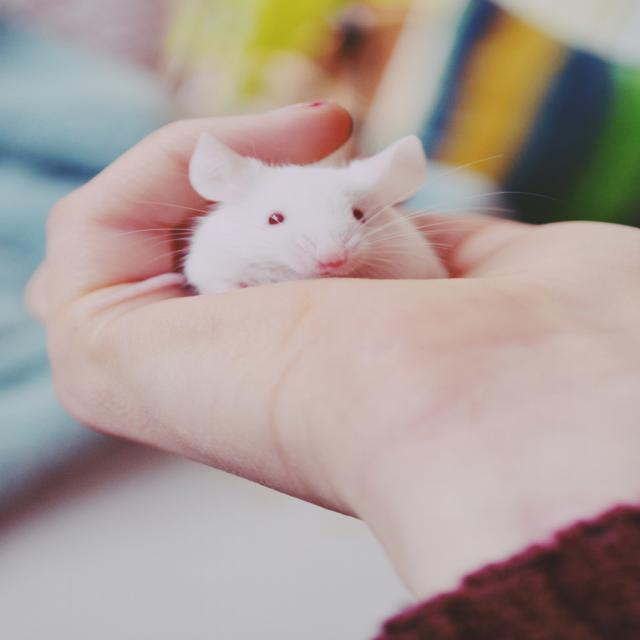rat: (177, 125, 446, 268)
